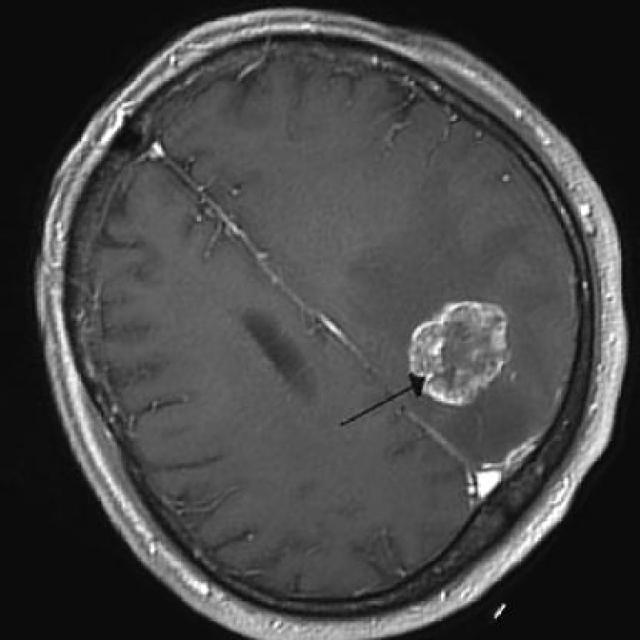Brain-Tumor: (385, 282, 536, 418)
